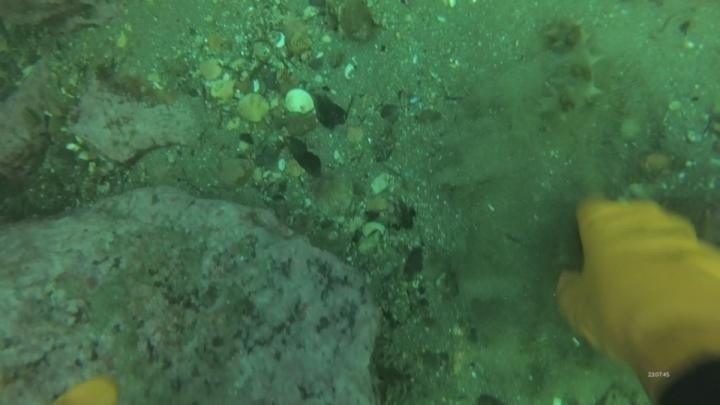holothurian: (533, 15, 607, 134)
